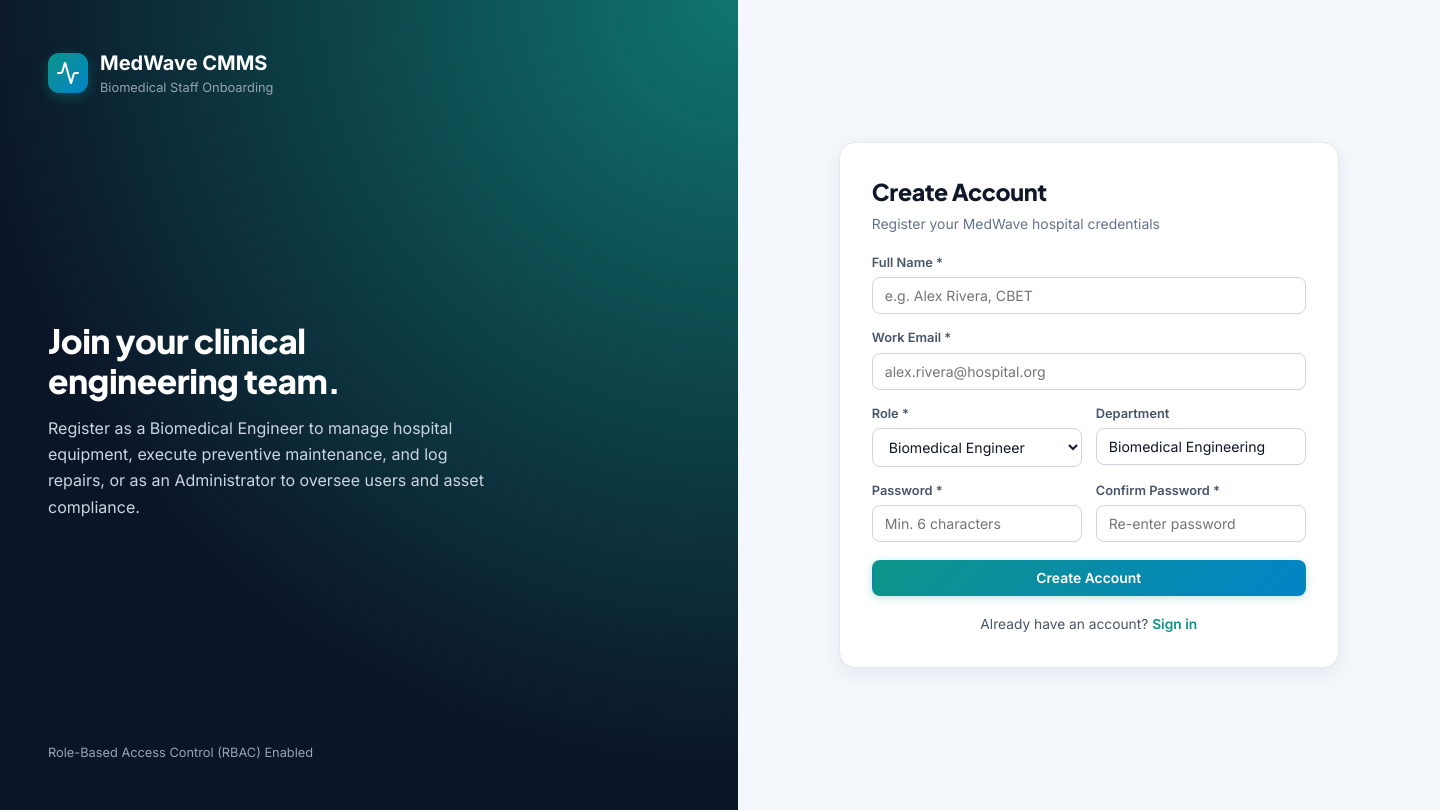
Test: MedWave Frontend Components & Modules › validates password confirmation on RegisterPage
Type "Alex Rivera" into the field with placeholder "e.g. Alex Rivera, CBET". click: (1089, 296)
box: [872,277,1306,314]
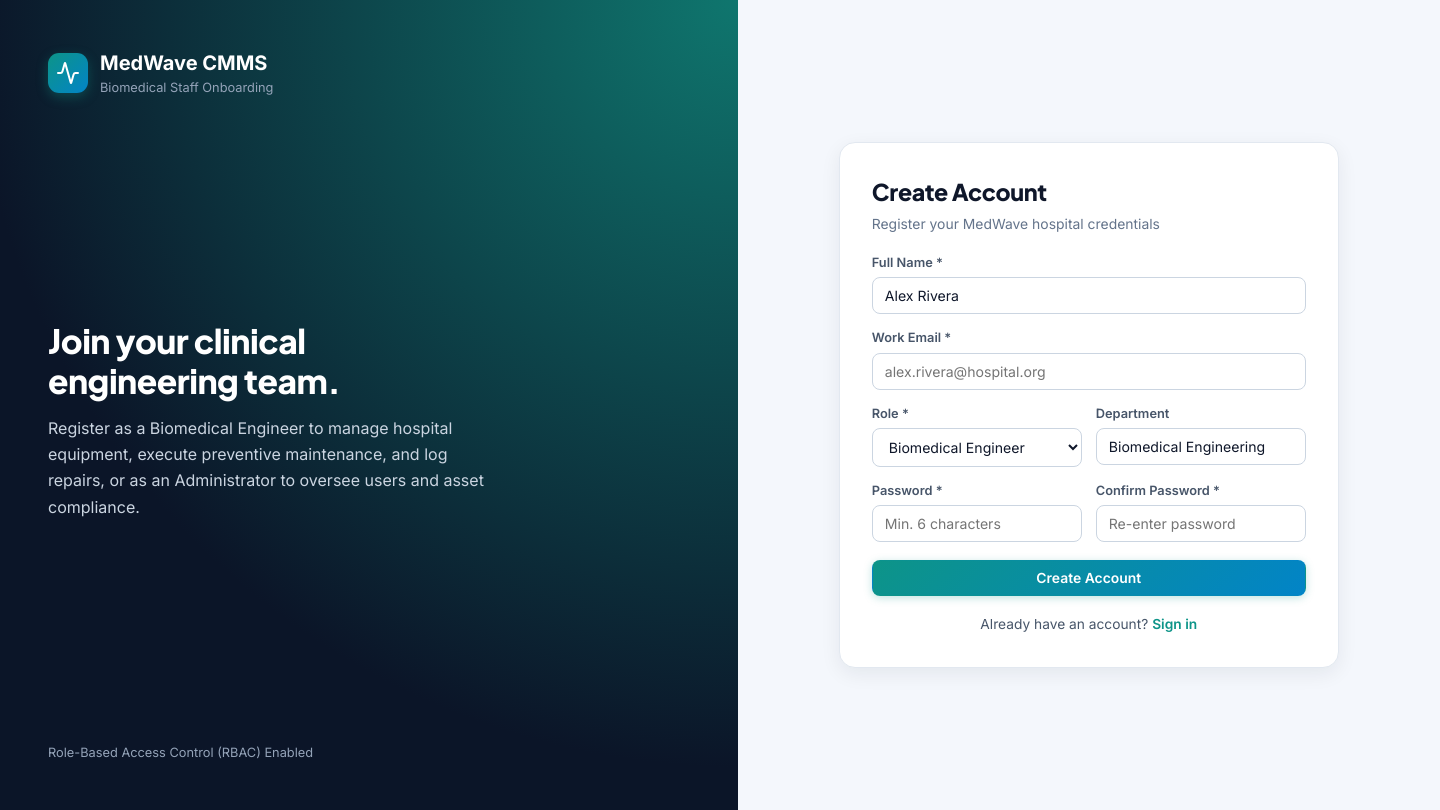
Type "alex@hospital.org" into the field with placeholder "alex.rivera@hospital.org". click: (1089, 371)
box: [872,352,1306,390]
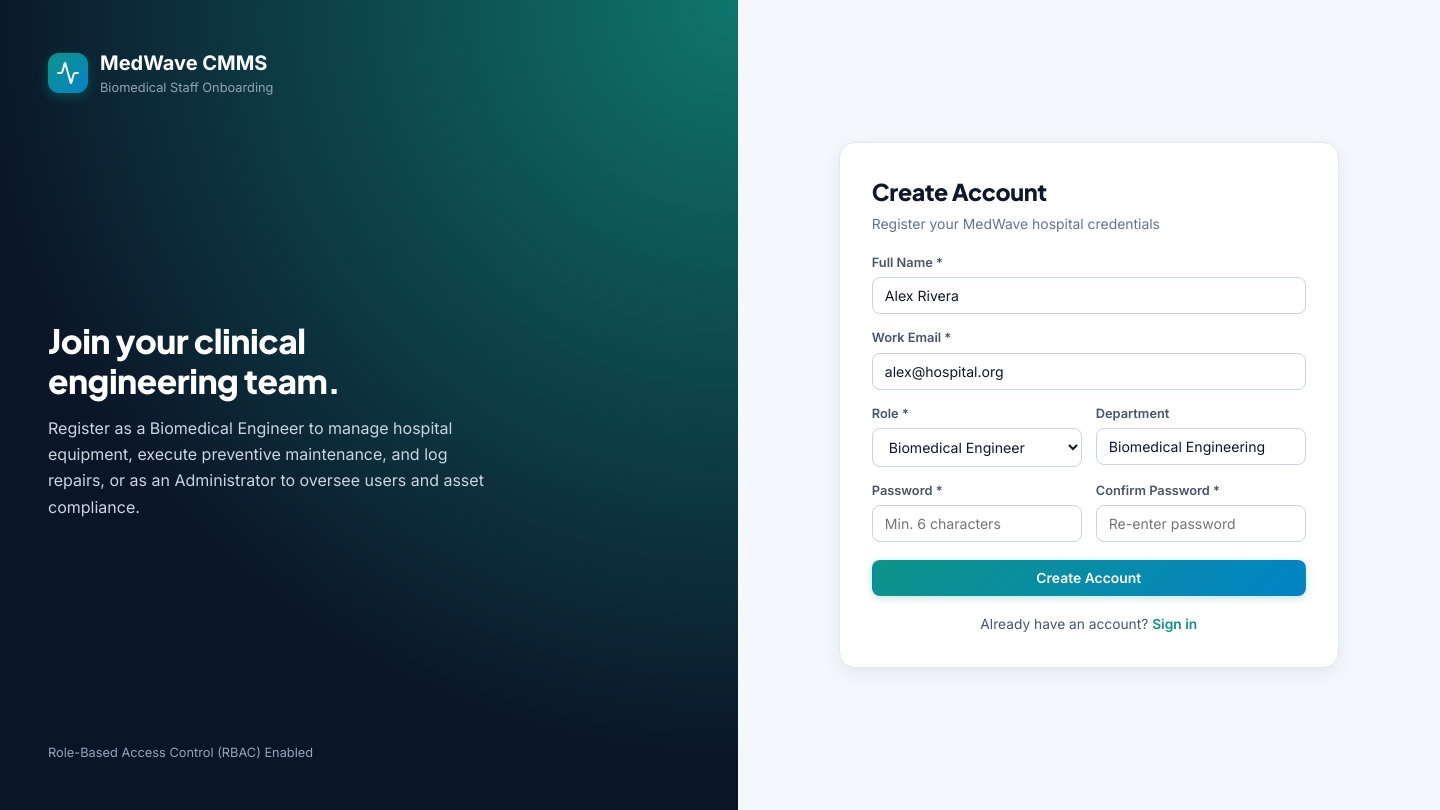
Type "Secret123" into the password field with placeholder "Min. 6 characters". click: (977, 523)
box: [872,505,1082,542]
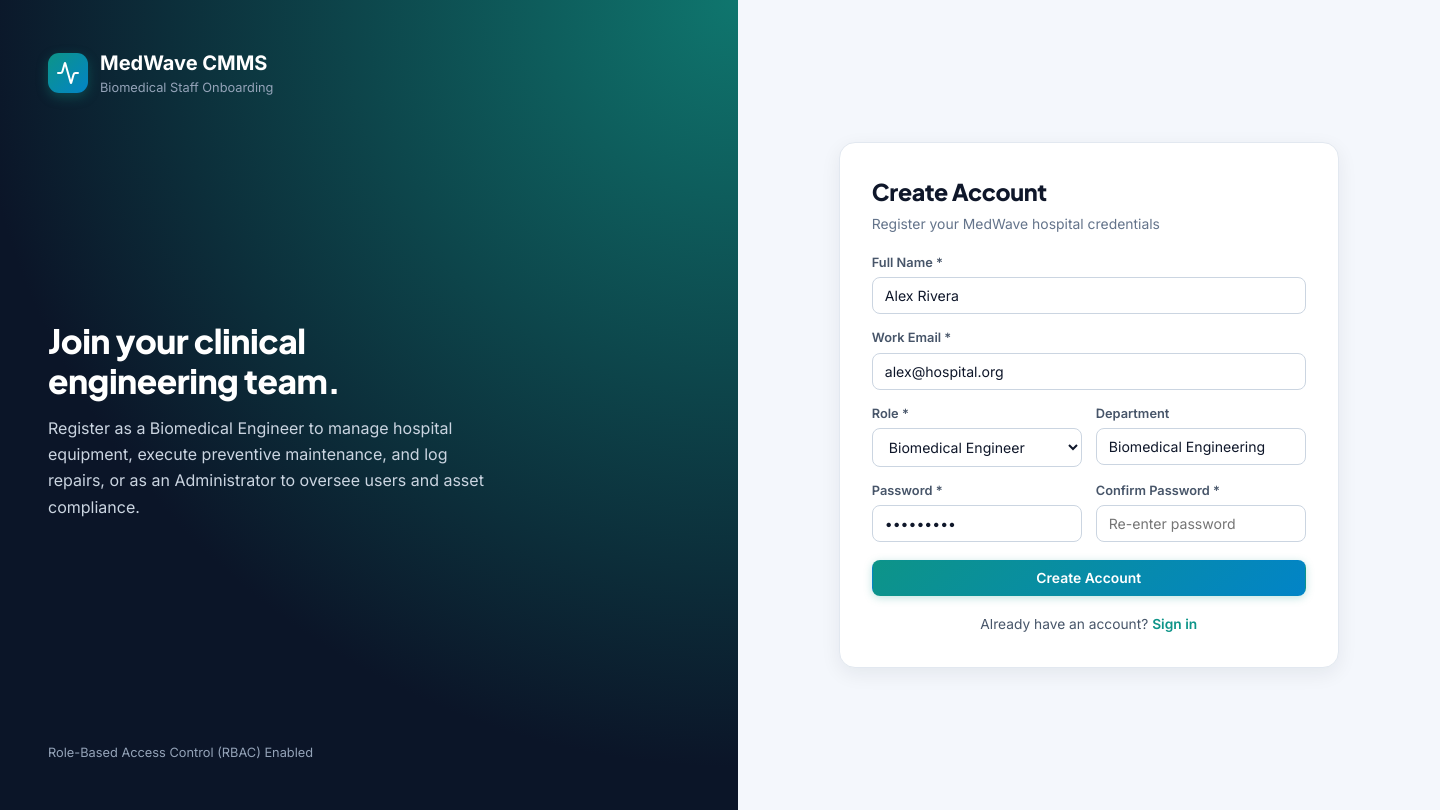
Type "Mismatch999" into the password field with placeholder "Re-enter password". click: (1201, 523)
box: [1096,505,1306,542]
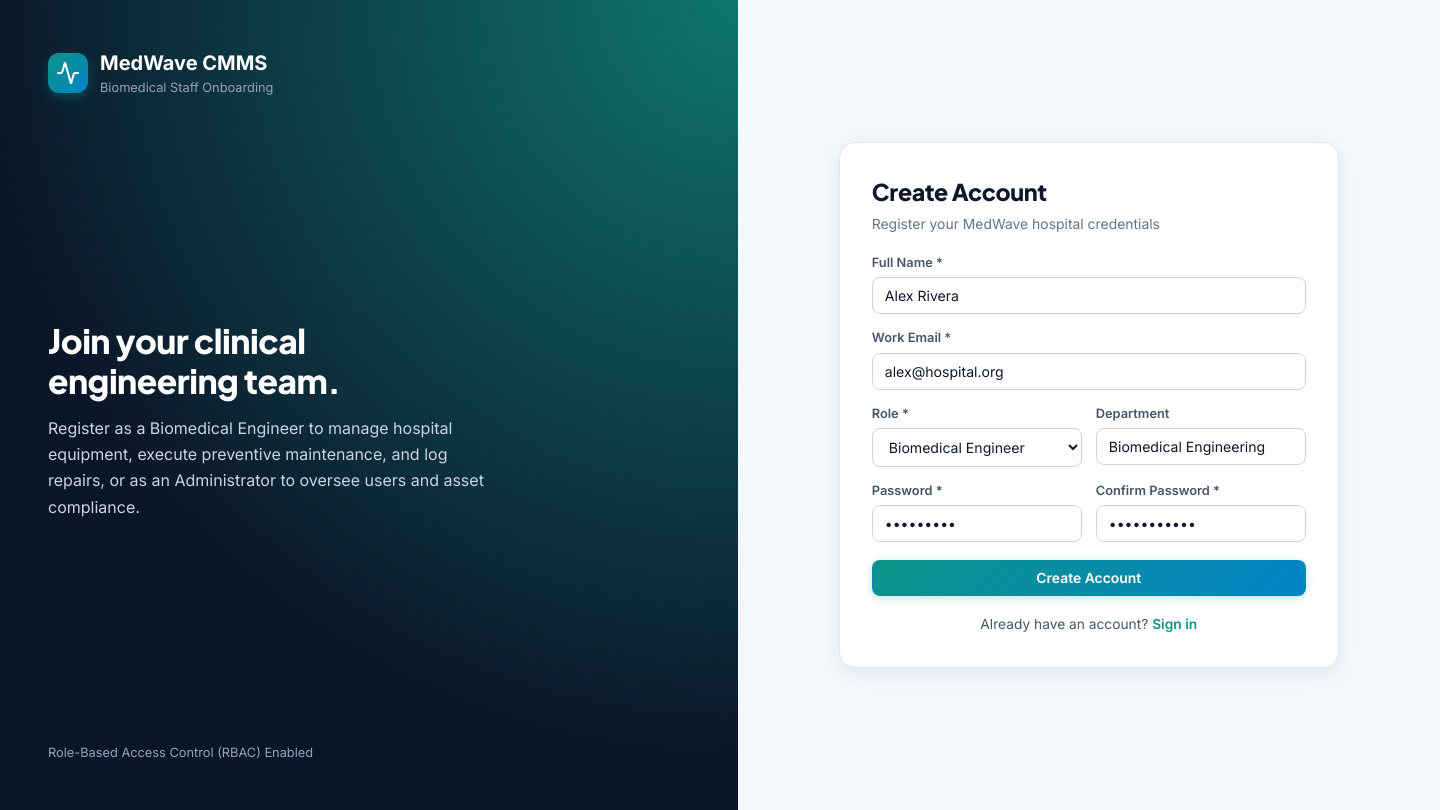
Click the button "Create Account". click: (1089, 578)
box: [872,560,1306,596]
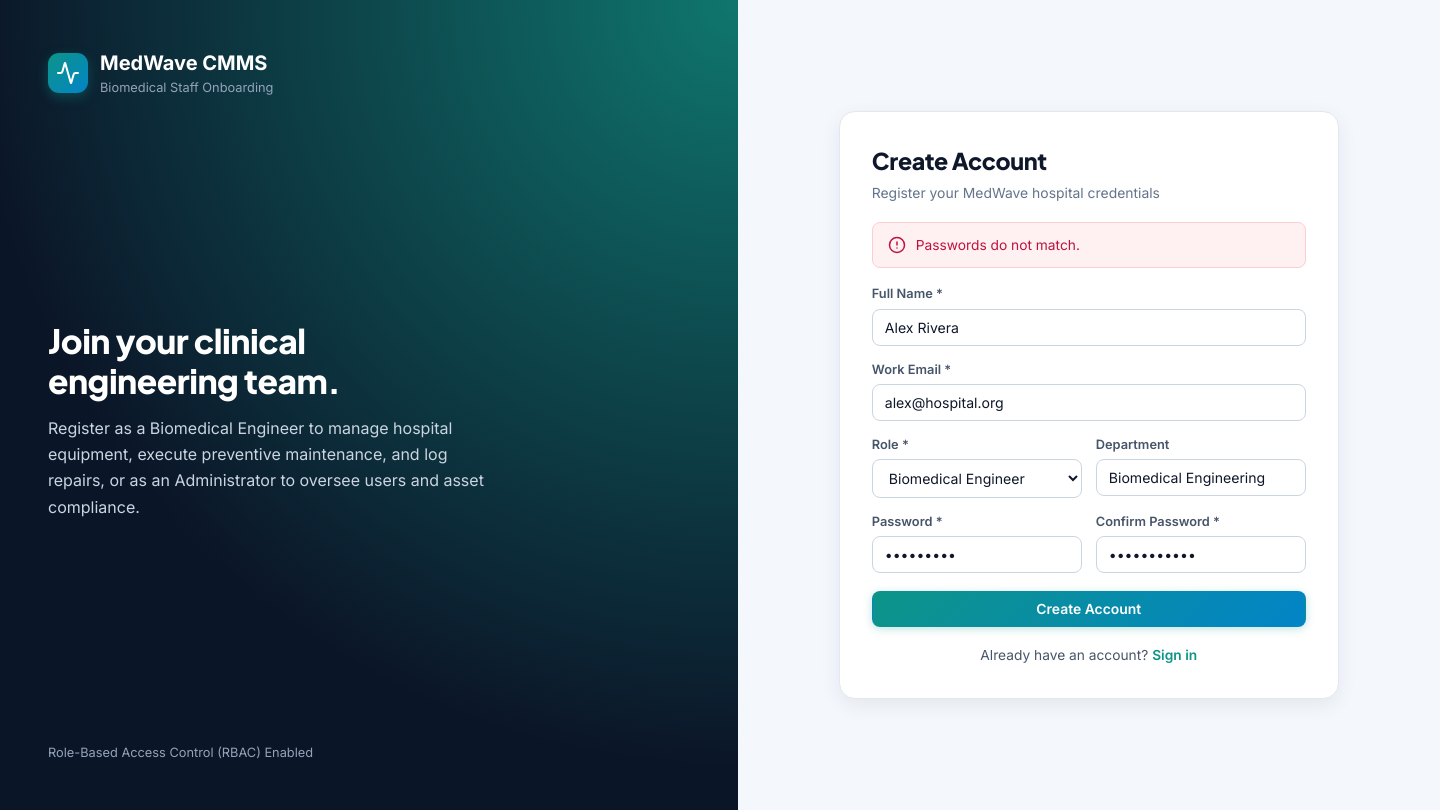
Check: the text "Passwords do not match." is shown, box [916,235,1080,255]
